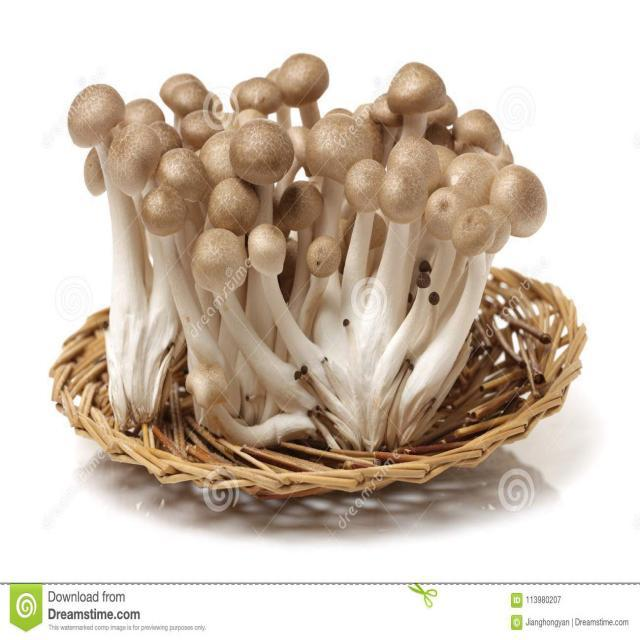Hypsizygus marmoreus: (67, 52, 547, 456)
